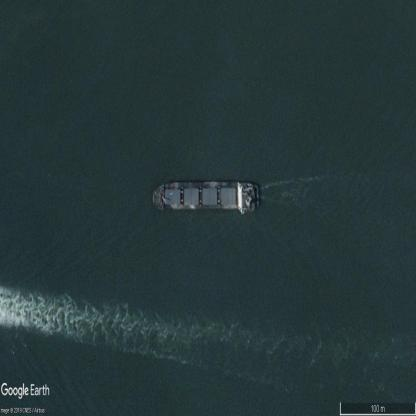ship: (151, 180, 261, 218)
